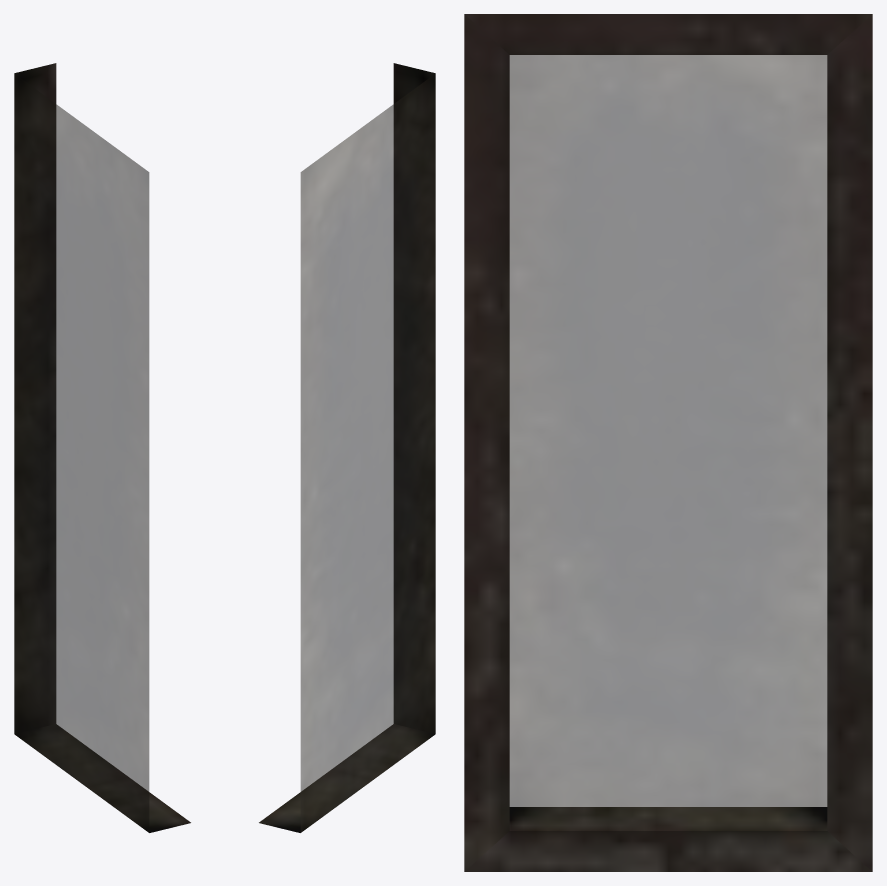
File: LongWindow.FBX
The picture shows the model from 3 angles, left to right: view 1: azimuth 30°, elevation 25°; view 2: azimuth 150°, elevation 25°; view 3: azimuth 270°, elevation 25°; orthographic projection. The views are drawn at different scales.
Visible parts, largest first — view 1: LongWindow; view 2: LongWindow; view 3: LongWindow.
Part boxes in pixels (x1,y1,x2,y2): LongWindow: (14, 63, 190, 832); LongWindow: (259, 63, 435, 832); LongWindow: (464, 14, 872, 871).
Bounding box in the file's own units: 21.22 × 352 × 152.
